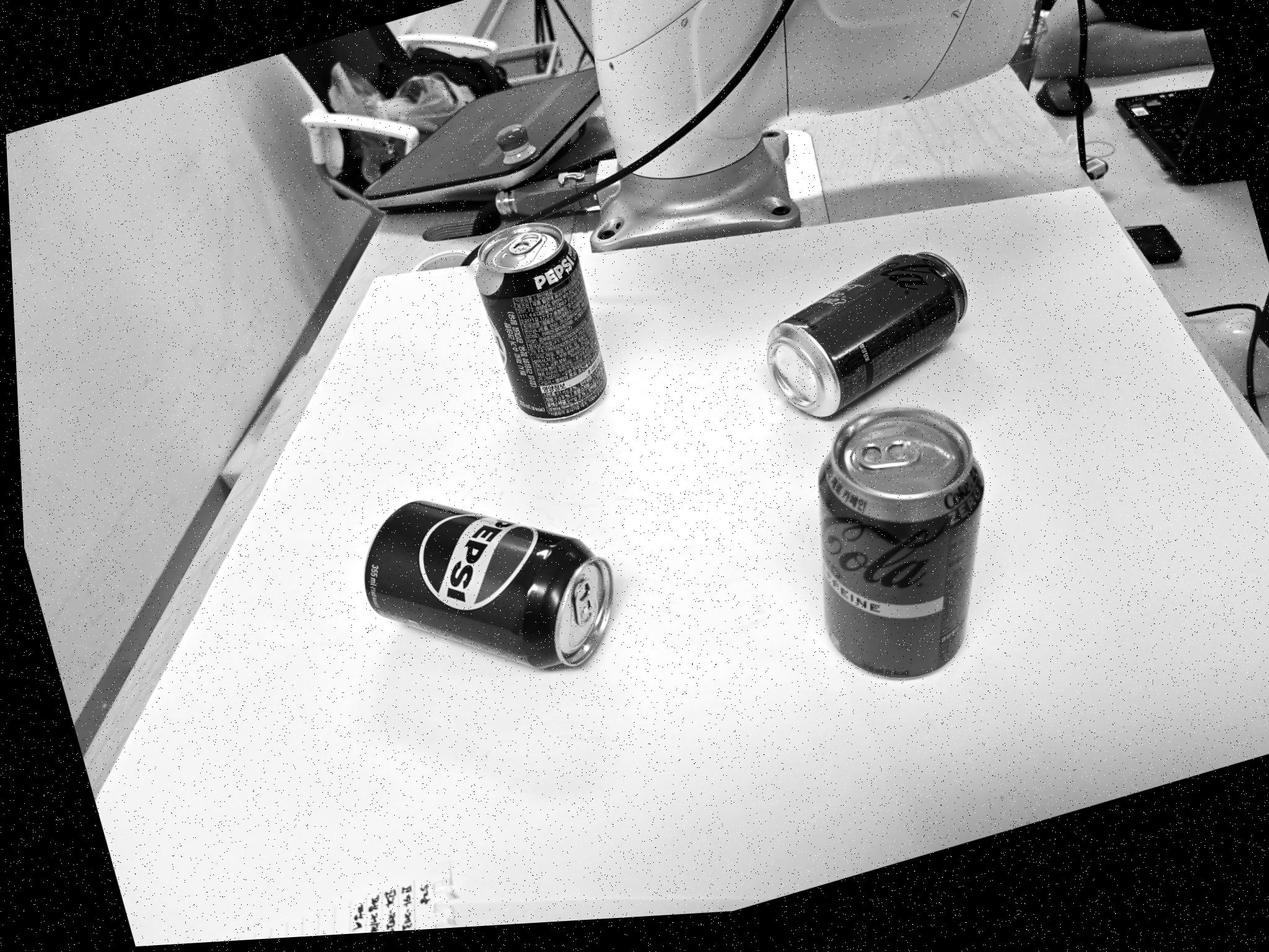can_coke_decaf: (819, 406, 984, 679)
can_coke_zero: (766, 252, 966, 416)
can_pepsi: (363, 501, 612, 668)
can_pepsi_zero: (476, 225, 606, 419)
